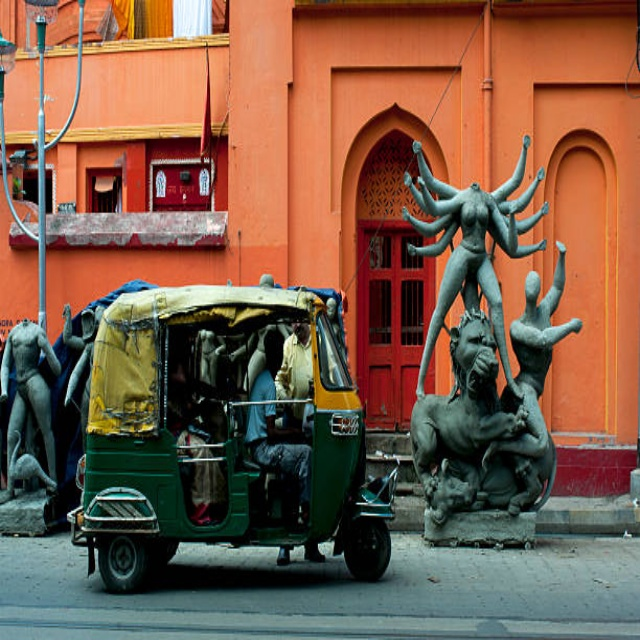Motorcycle: (68, 287, 394, 596)
